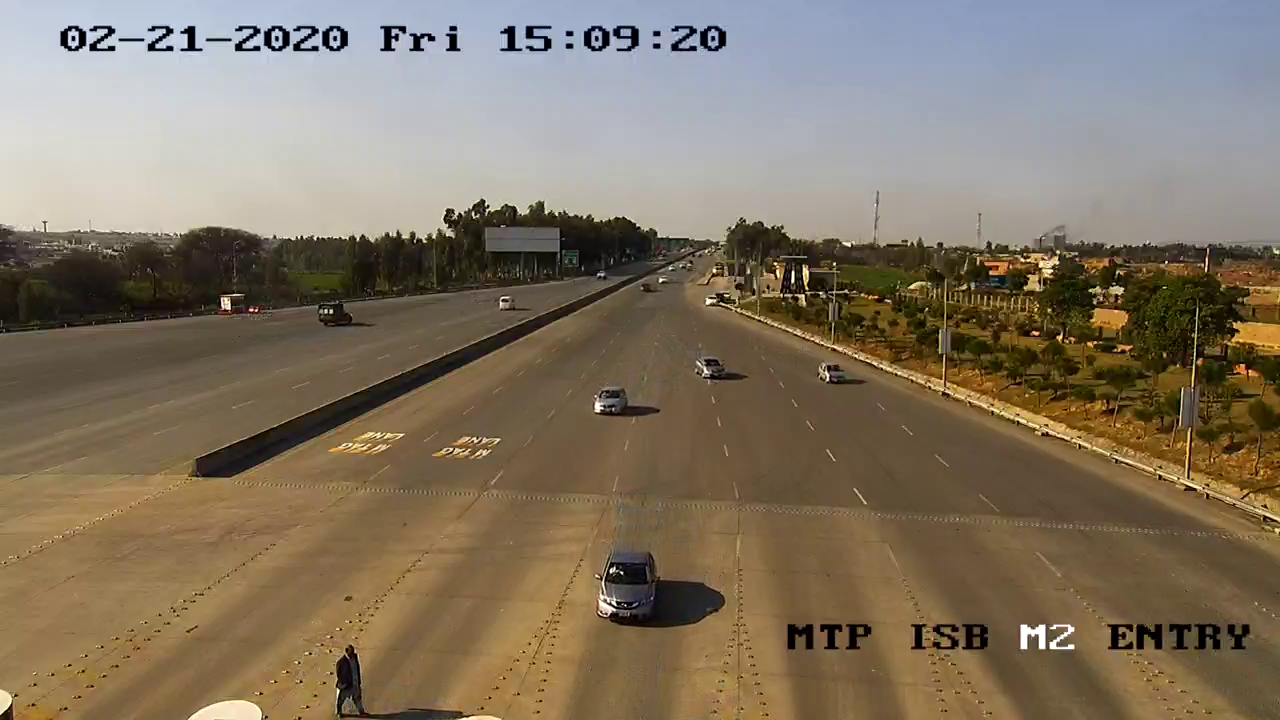f1: (588, 541, 670, 632)
